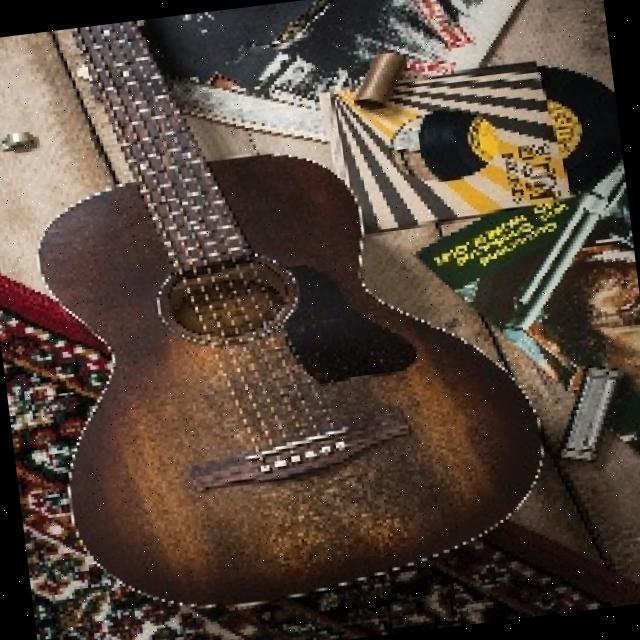guitar: (9, 0, 562, 628)
